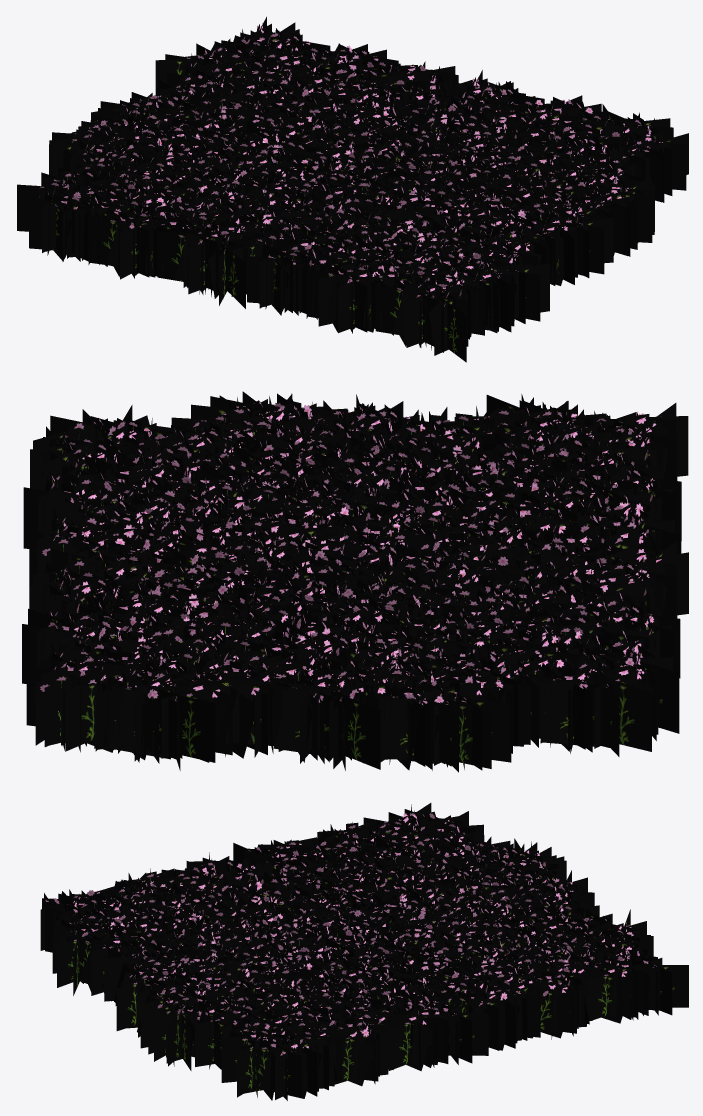
File: コスモス山盛り.fbx
The picture shows the model from 3 angles, top to bottom: view 1: azimuth 30°, elevation 25°; view 2: azimuth 150°, elevation 25°; view 3: azimuth 270°, elevation 25°; orthographic projection. The views are drawn at different scales.
Visible parts, largest first — view 1: 平面; view 2: 平面; view 3: 平面.
Part boxes in pixels (<box>): 平面: <box>17,16,688,362</box>; 平面: <box>22,391,688,772</box>; 平面: <box>40,803,688,1100</box>.
Size of the model in its own units: 9617 by 1086 by 10636.
3 materials, 3 textured.
